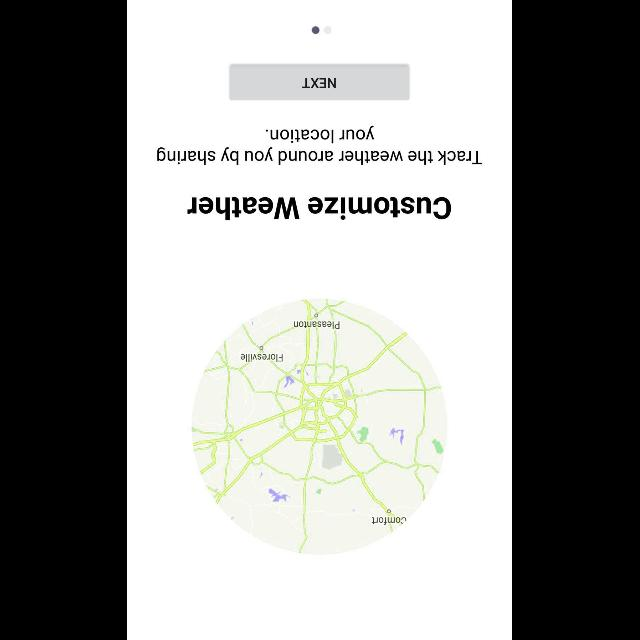image: (192, 298, 448, 554)
pageindicator: (312, 26, 332, 34)
text: (158, 126, 484, 164), (188, 198, 452, 220)
textbutton: (230, 64, 410, 100)
